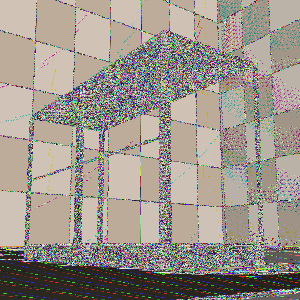Rack: (21, 28, 266, 271)
